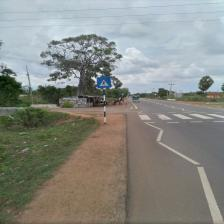crossing: (126, 96, 224, 223)
